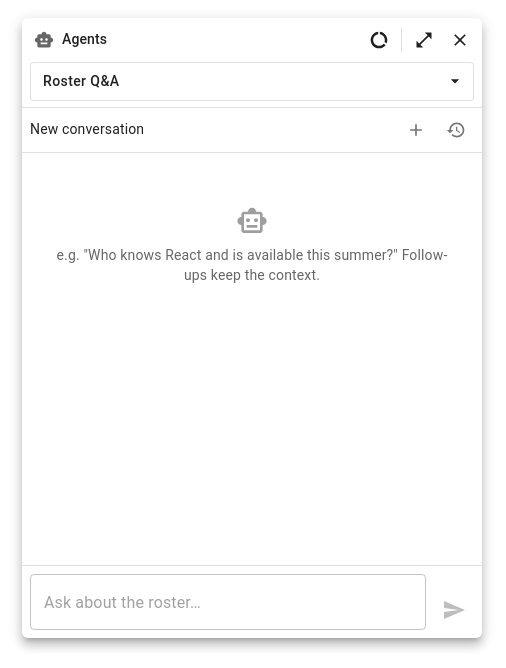
Test case: the history drawer › leaves out a group nothing falls into
The width and height of the screenshot is (506, 668).
Click the button named "Conversation history". click: click(456, 130)
box: [438,112,474,148]
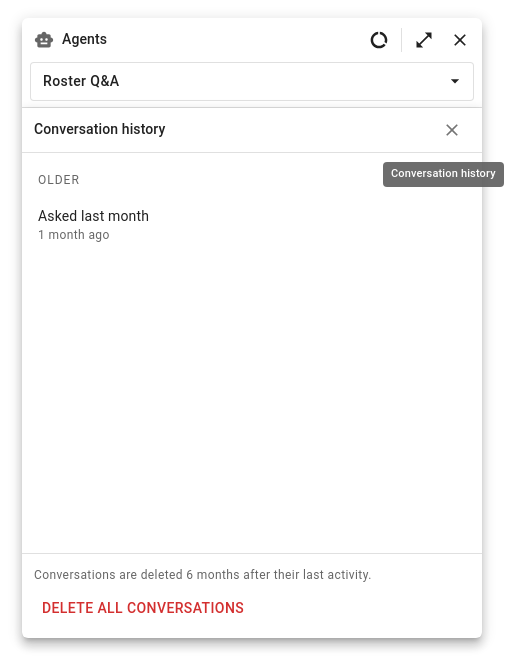
Check: the headings read "Older", in this order, box [38,172,80,186]
